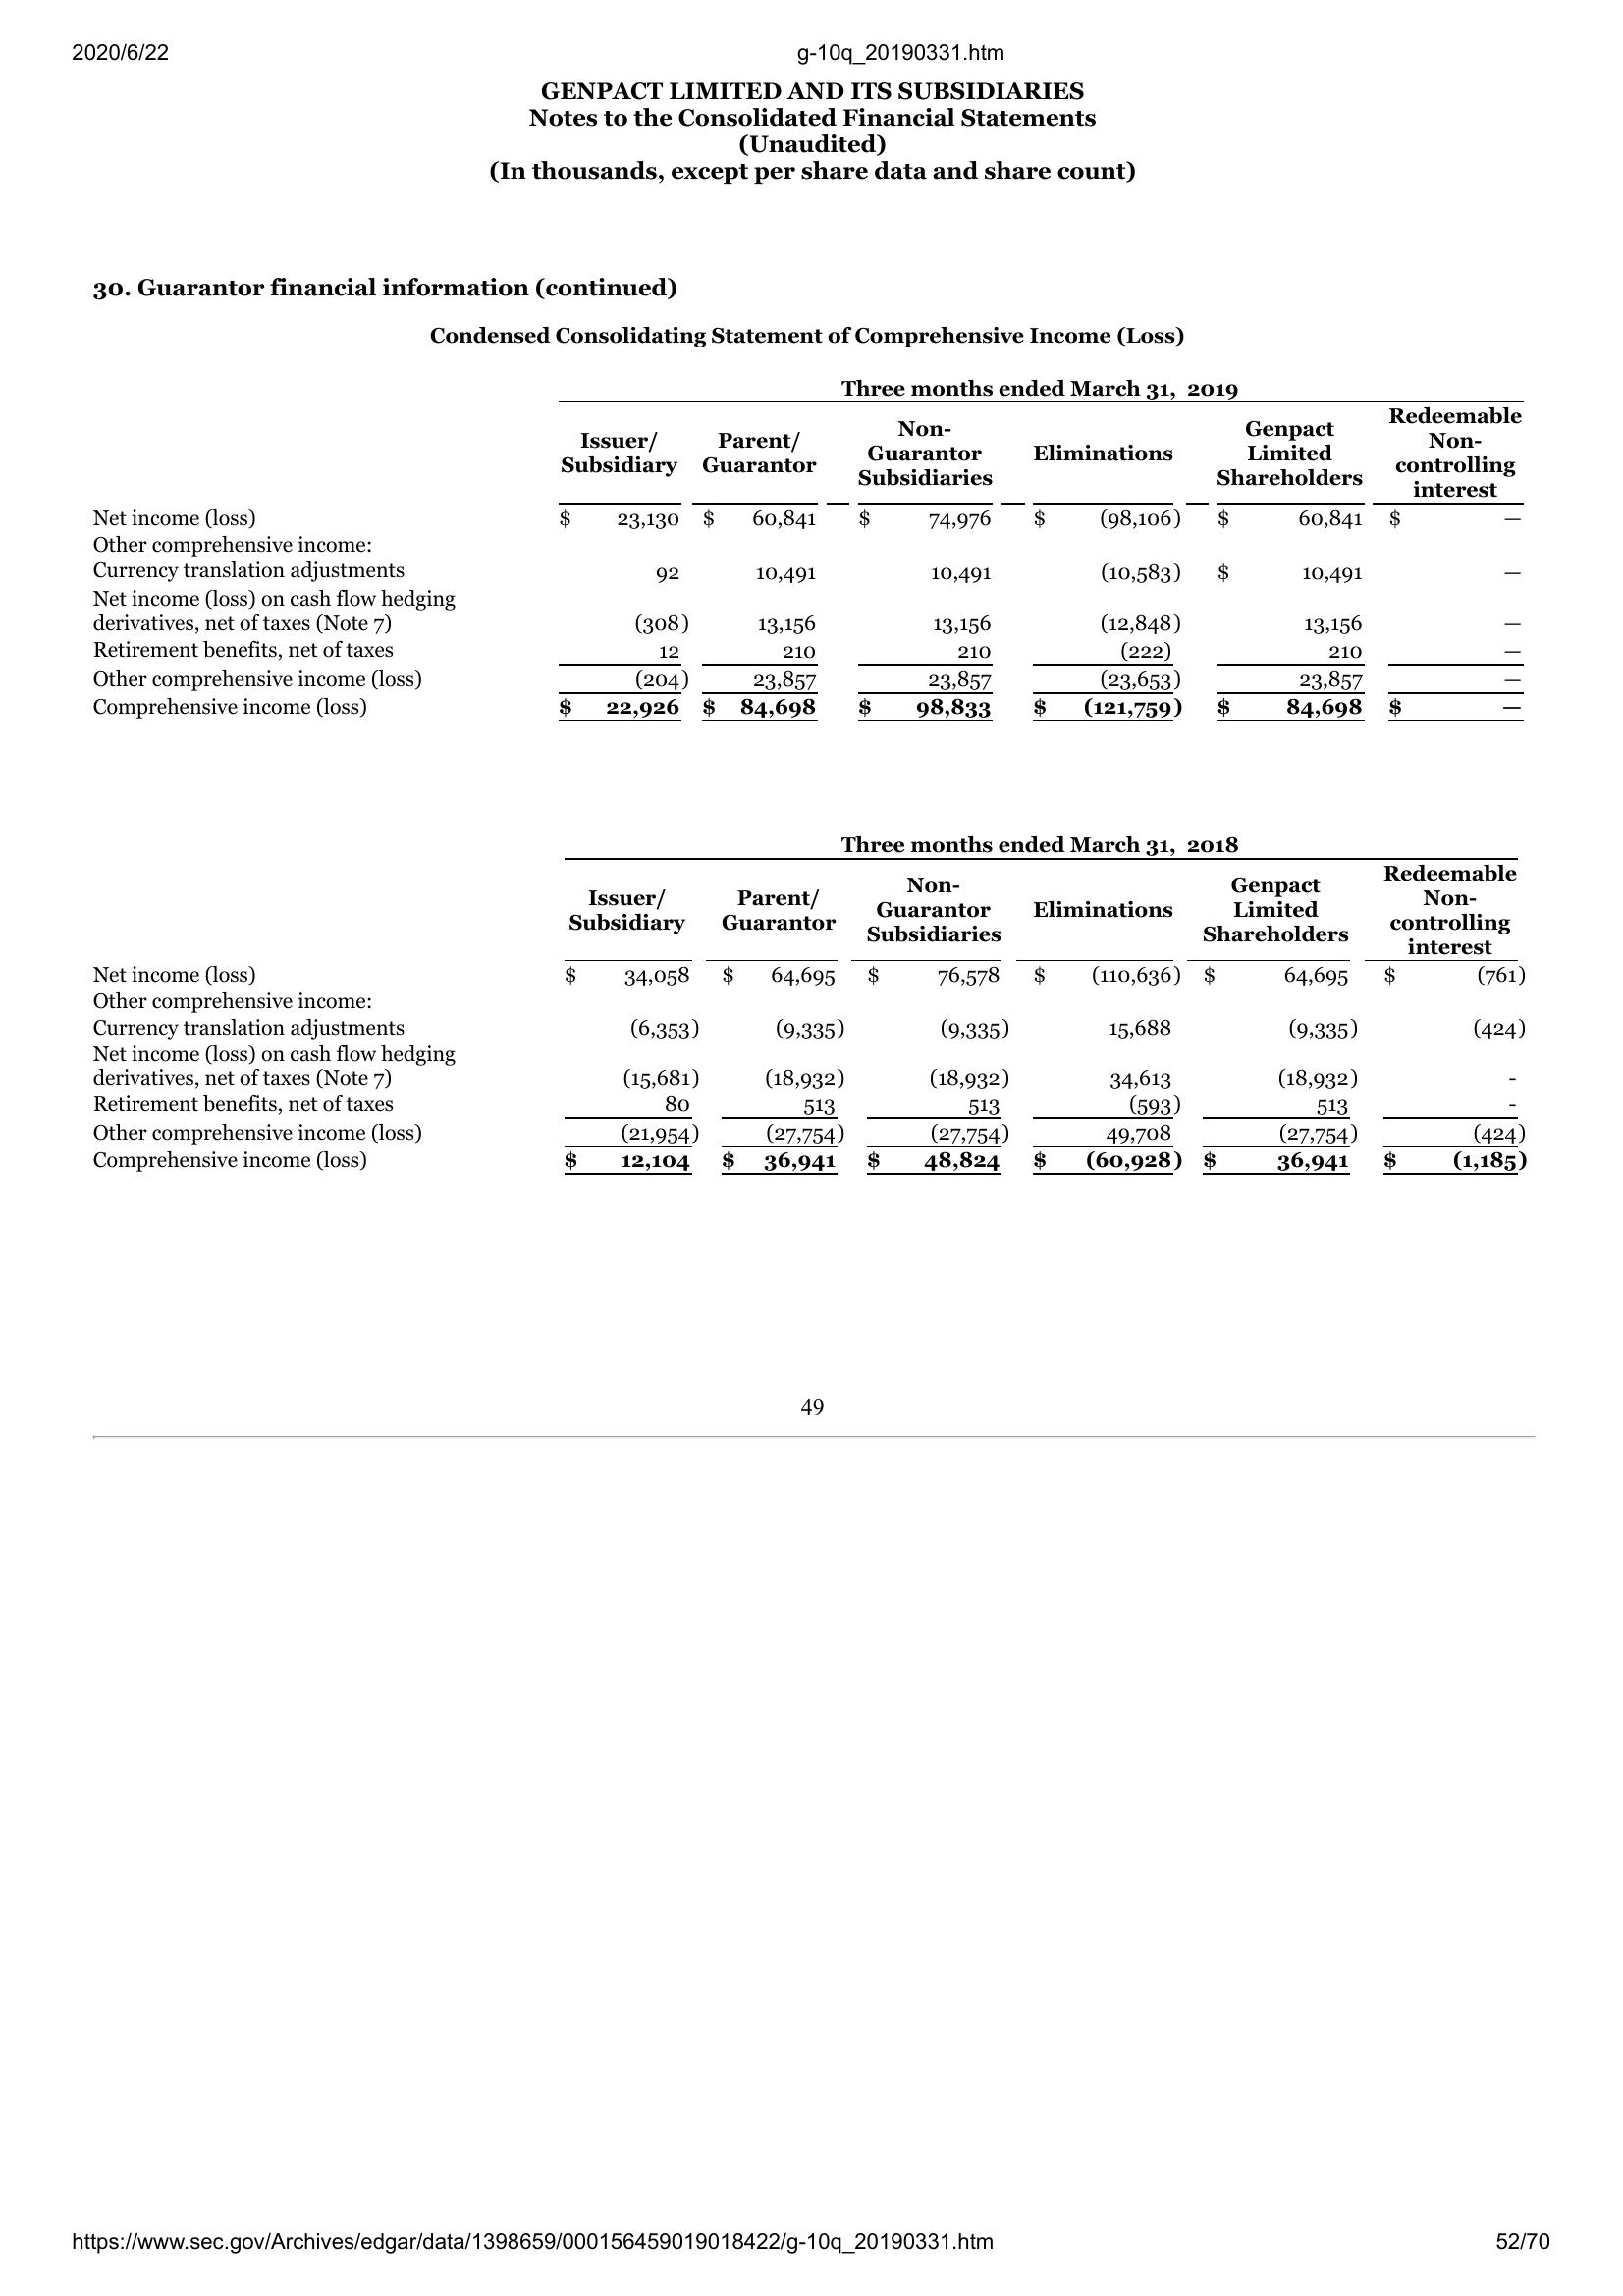table: (77, 372, 1542, 1183)
